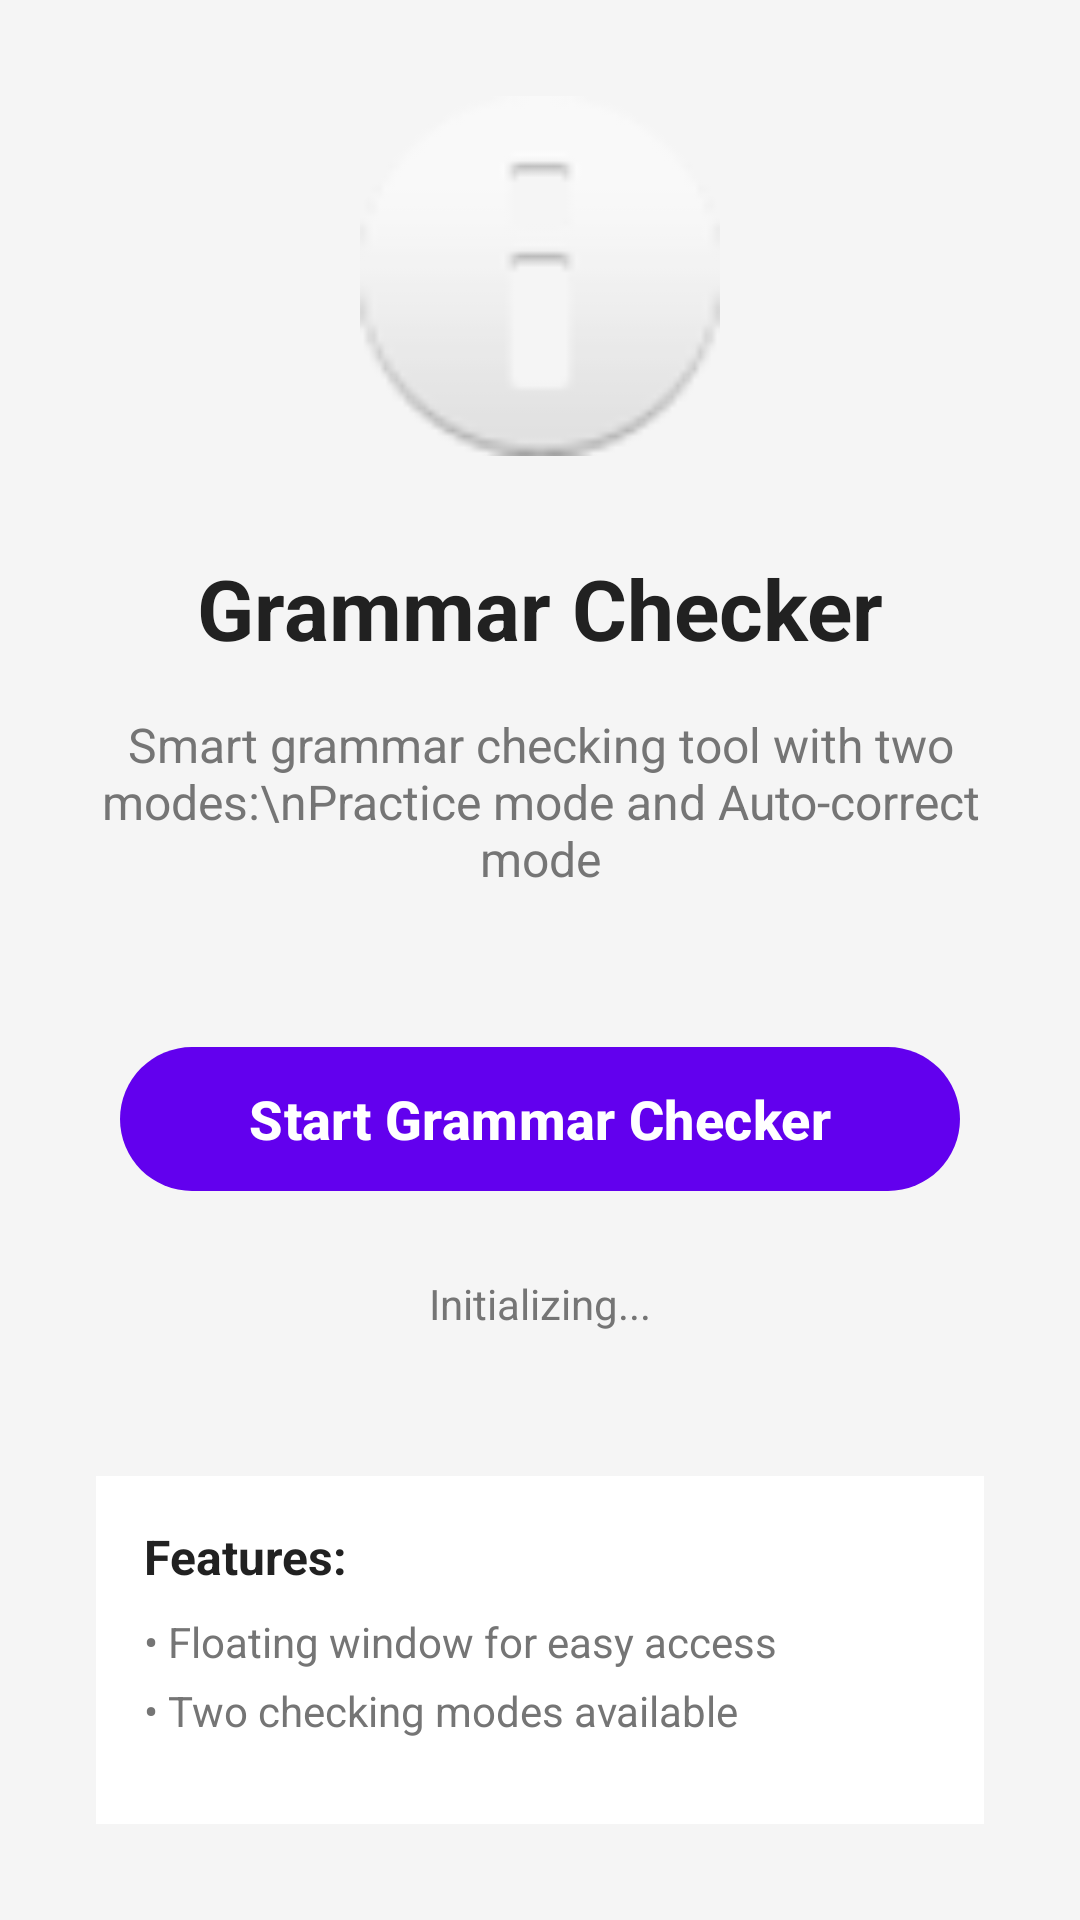

Icons on this 1080w x 1920h Android screen, each with the point to tap as point (x, y):
App Icon: point (540, 309)
